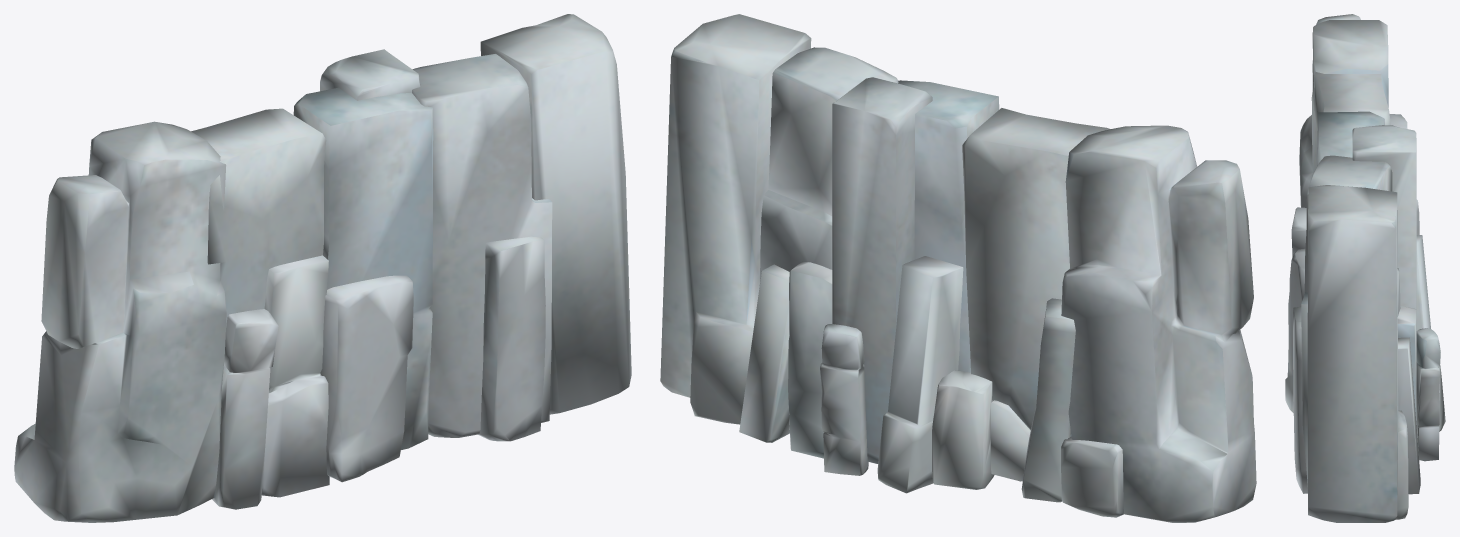
The model's file is P_CubicCliff15.obj.
3 views of the same model, side by side, from view 1: azimuth 30°, elevation 25°; view 2: azimuth 150°, elevation 25°; view 3: azimuth 270°, elevation 25° (orthographic). The views are drawn at different scales.
Size of the model in its own units: 78.07 by 49.09 by 22.45.
